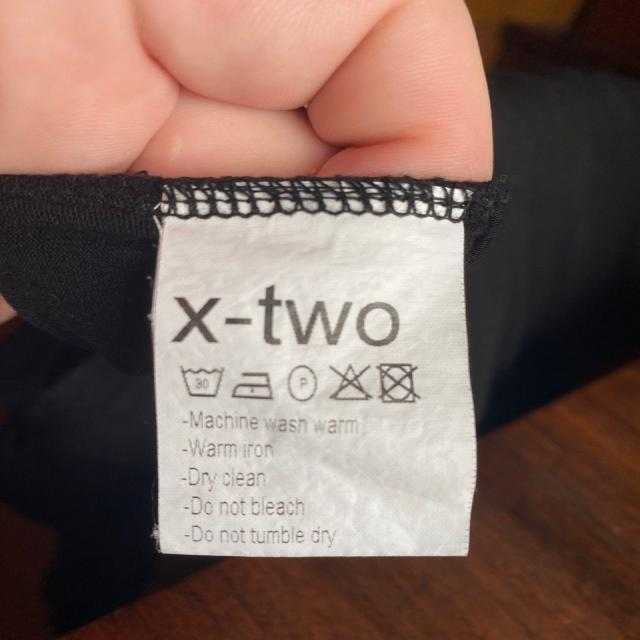30C: (179, 360, 227, 399)
DN_bleach: (329, 359, 374, 404)
DN_tumble_dry: (377, 359, 419, 406)
dry_clean_any_solvent_except_trichloroethylene: (285, 360, 321, 403)
iron_low: (232, 367, 275, 404)
